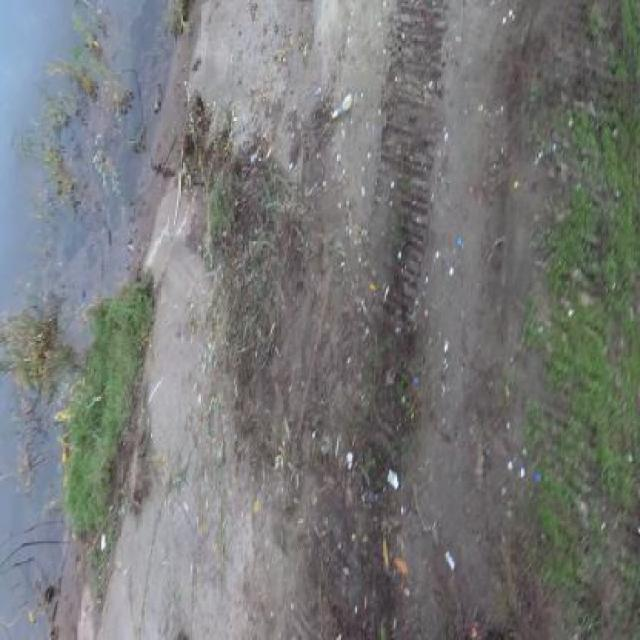Garbage: (331, 90, 353, 122), (387, 468, 398, 493)
